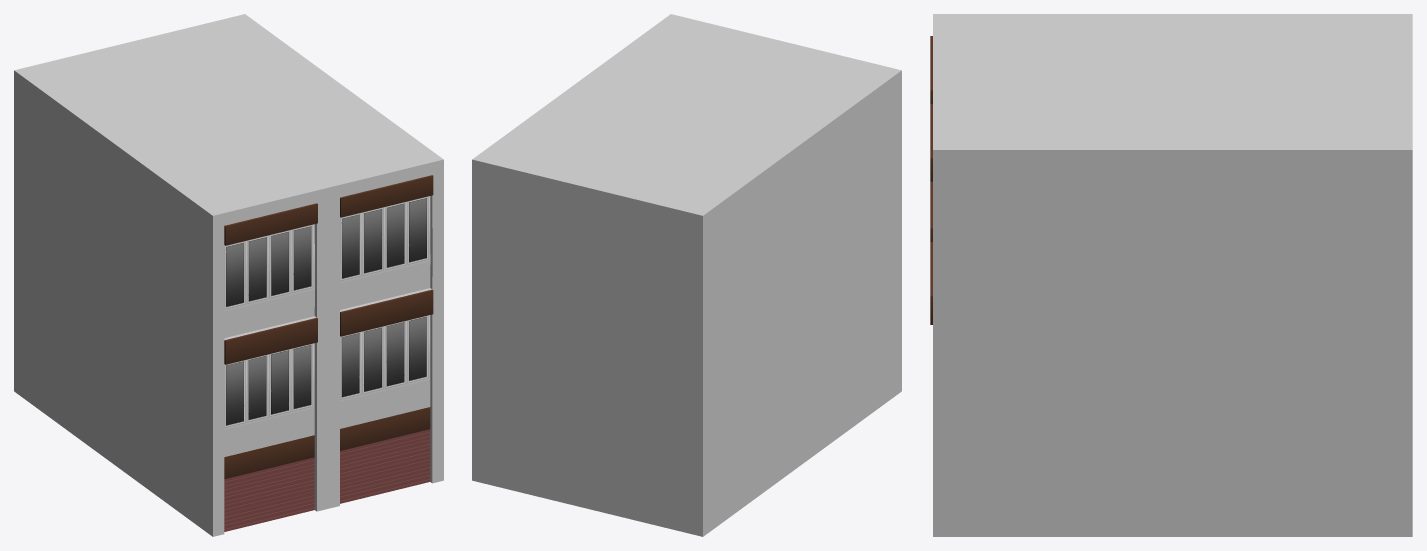
Rendered from RukoTest3.fbx.
The picture shows the model from 3 angles, left to right: view 1: azimuth 30°, elevation 25°; view 2: azimuth 150°, elevation 25°; view 3: azimuth 270°, elevation 25°; orthographic projection. The views are drawn at different scales.
Visible parts, largest first — view 1: Cube.029; view 2: Cube.029; view 3: Cube.029.
Boxes of the visible parts, box(x1,y1,x2,y2) form: Cube.029: box(14, 14, 443, 536); Cube.029: box(472, 14, 901, 536); Cube.029: box(930, 14, 1412, 536).
Size of the model in its own units: 2508 by 3332 by 3761.
